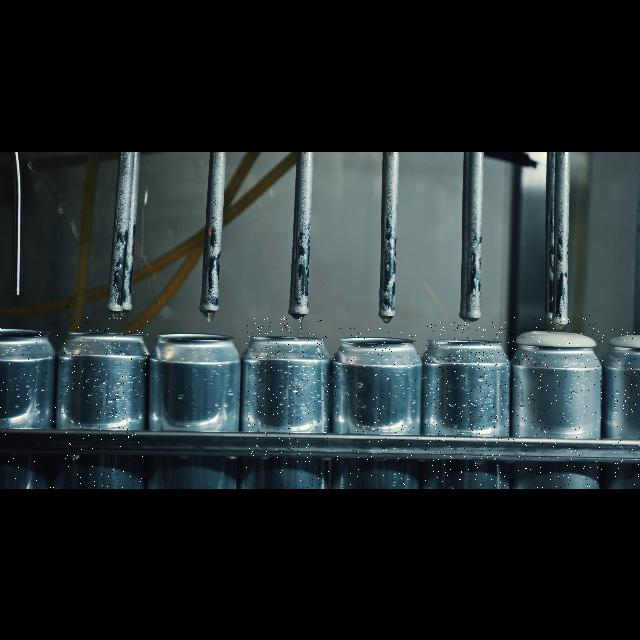empty: (62, 316, 148, 488), (245, 316, 329, 488), (155, 312, 235, 488), (425, 322, 509, 488), (334, 326, 418, 488), (0, 318, 58, 488)
full: (512, 314, 604, 488), (612, 328, 640, 488)
